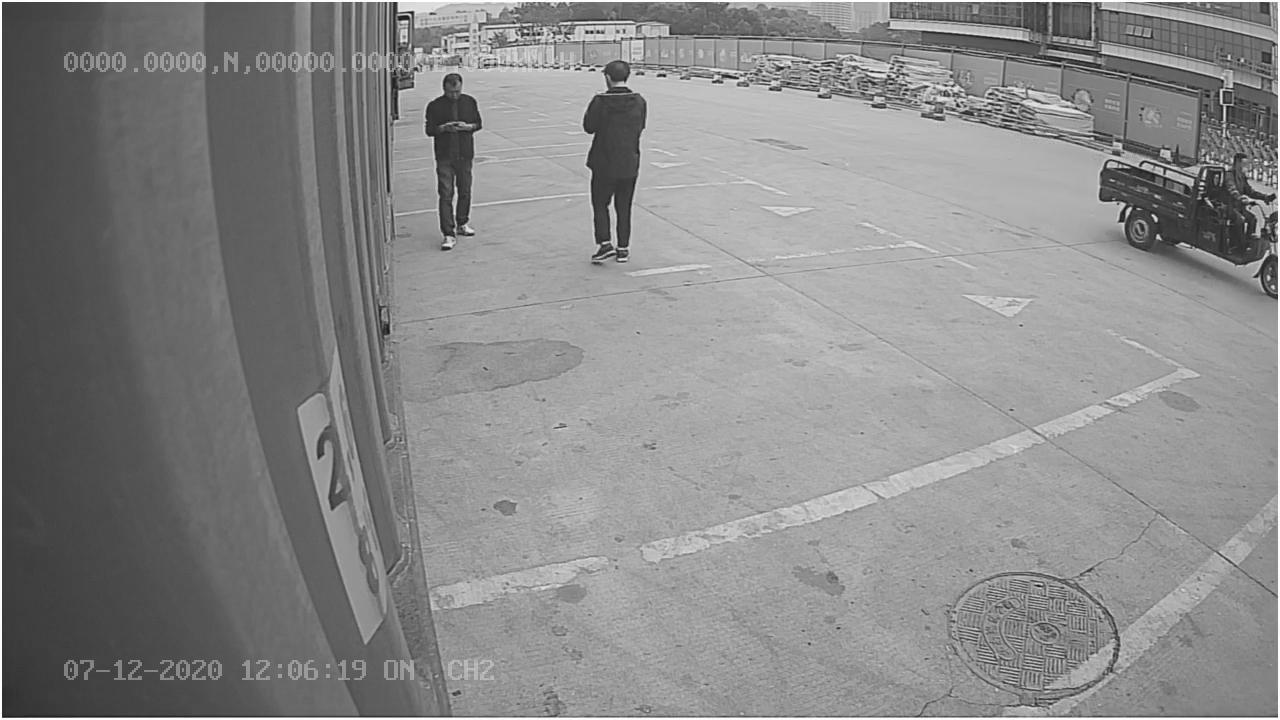person: (578, 56, 646, 263)
